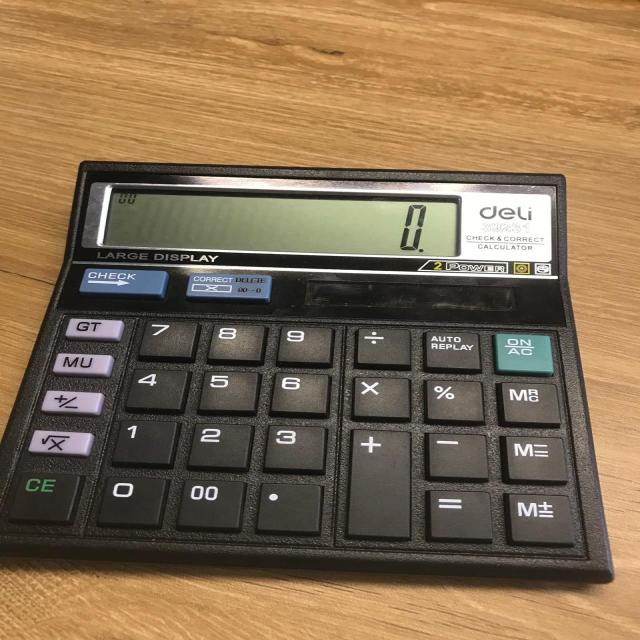calculator: (1, 159, 616, 583)
